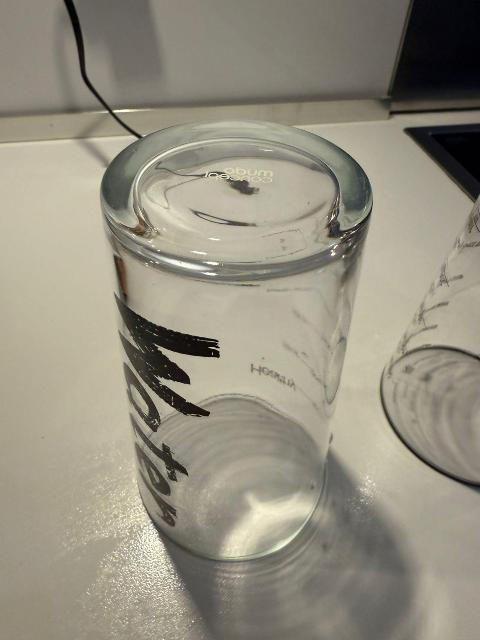Cam: (102, 115, 376, 563), (382, 195, 480, 488)
